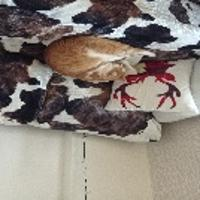asleep: (43, 35, 155, 83)
